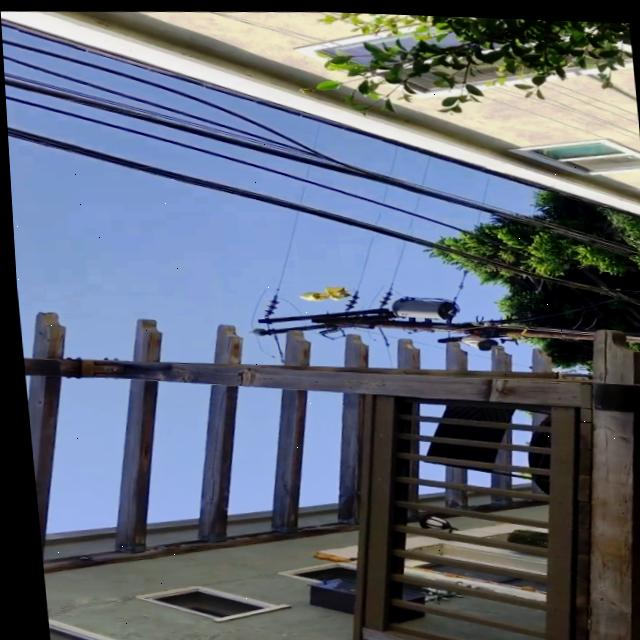obstruction: (291, 284, 343, 299)
poles: (244, 280, 640, 362)
wires: (269, 209, 301, 292), (349, 230, 375, 285), (384, 237, 408, 280), (439, 266, 466, 296), (472, 171, 487, 200), (307, 119, 320, 144), (417, 155, 429, 182), (387, 145, 398, 172), (376, 181, 392, 198), (399, 212, 412, 232), (467, 208, 479, 228), (294, 180, 305, 200), (299, 162, 311, 179), (410, 193, 420, 207), (375, 206, 380, 223)
